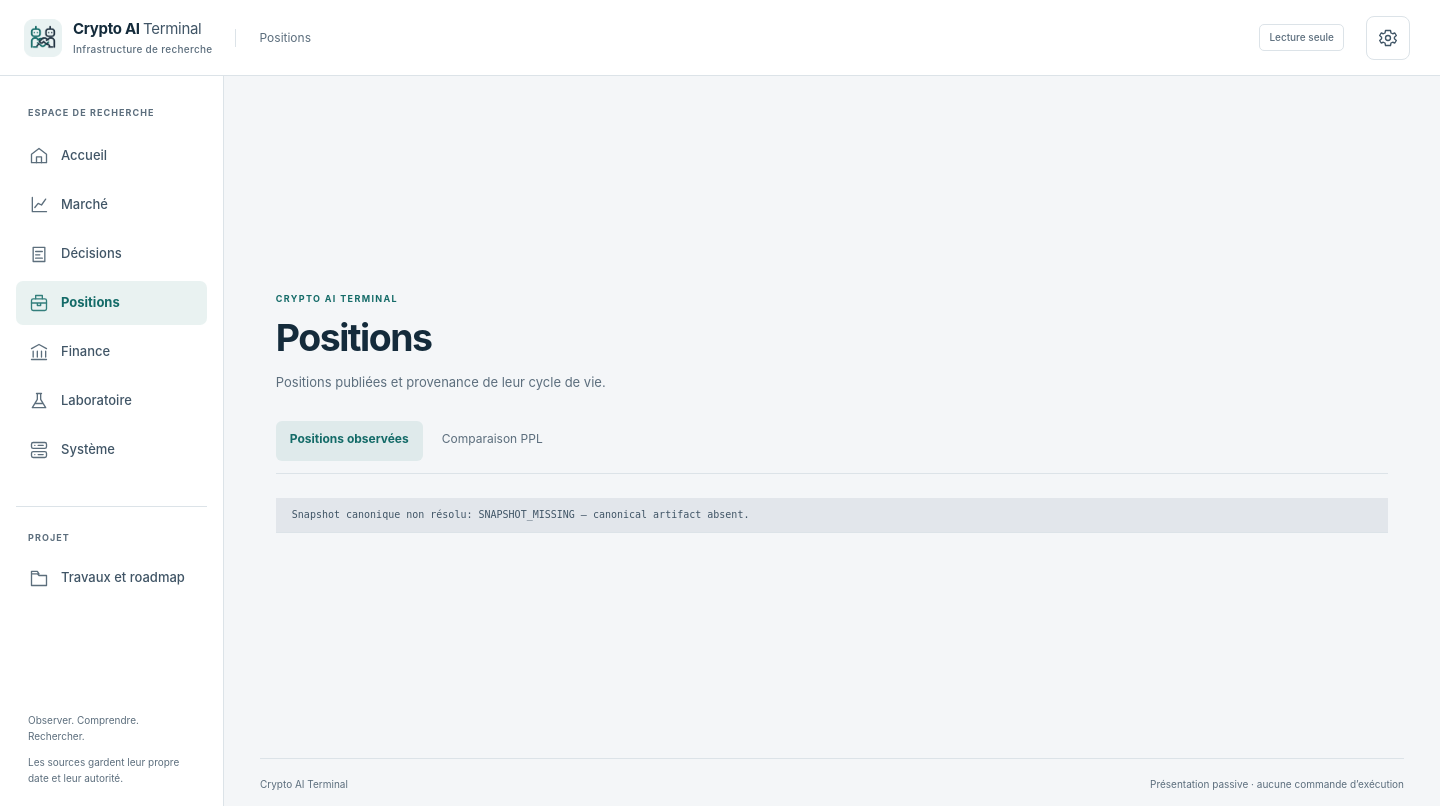
WEB-RL Research Lab › keeps Research independently available when canonical PAPER snapshot is missing
Expected: the text with test id "snapshot-status-api-error" shows "SNAPSHOT_MISSING", [478,509,575,520]
Click the link with test id "tab-research". click: point(80, 400)
box: [29,390,132,410]
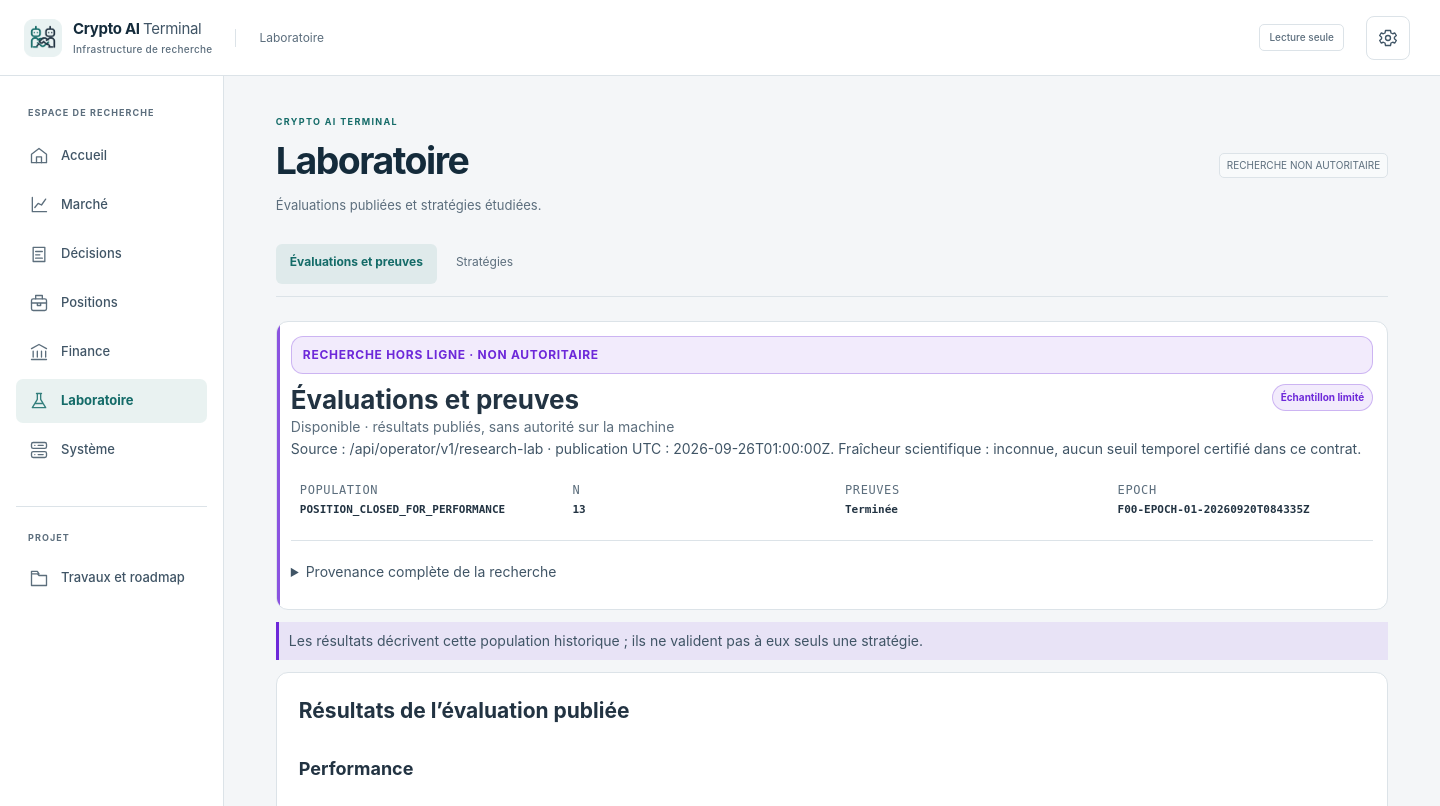
Expected: the text with test id "research-domain-banner" shows "RECHERCHE HORS LIGNE", [303,347,599,362]
Expected: the text with test id "snapshot-status-api-error" is gone
Click the link with test id "tab-paper". click: point(73, 302)
box: [29,292,118,312]
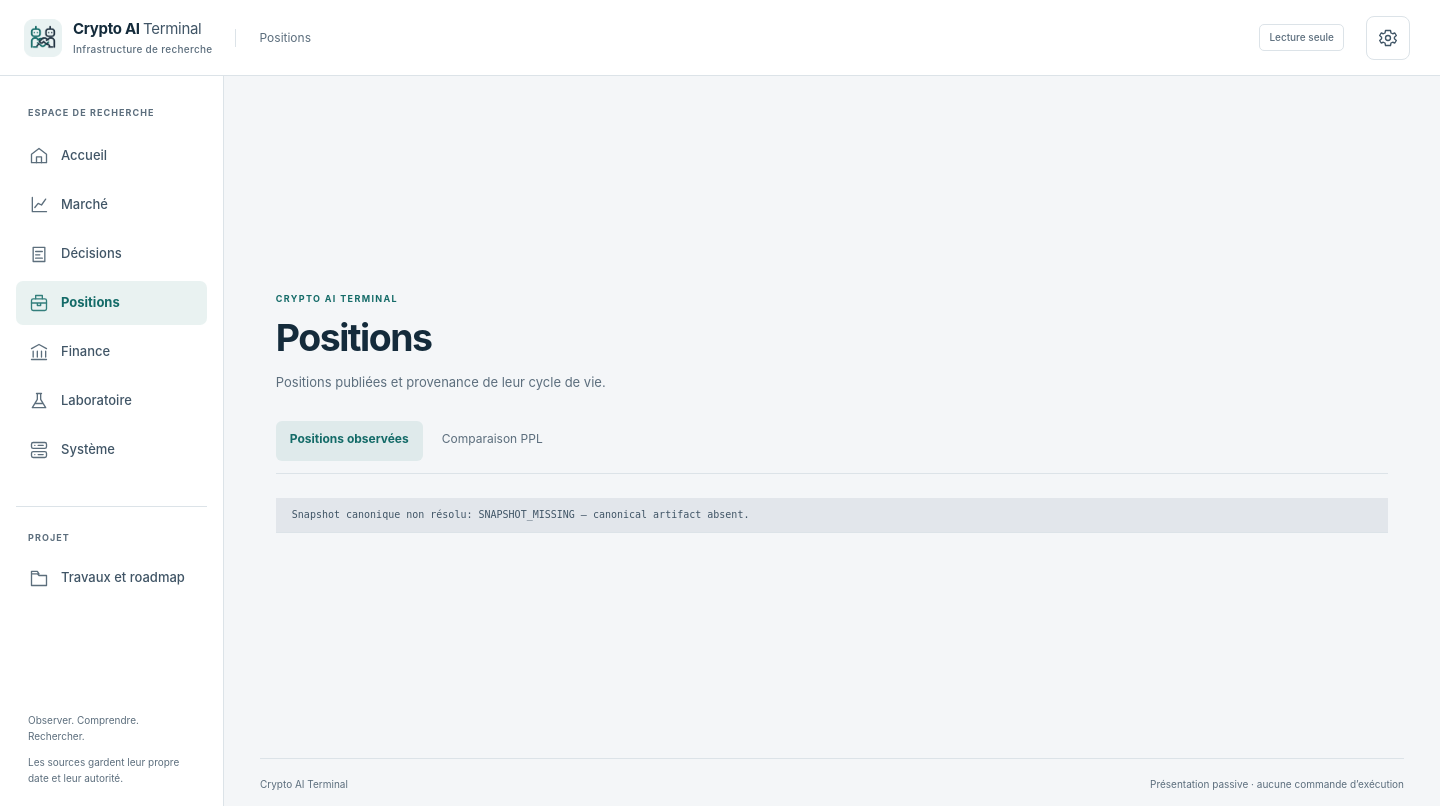
Expected: the text with test id "snapshot-status-api-error" shows "SNAPSHOT_MISSING", [478,509,575,520]
